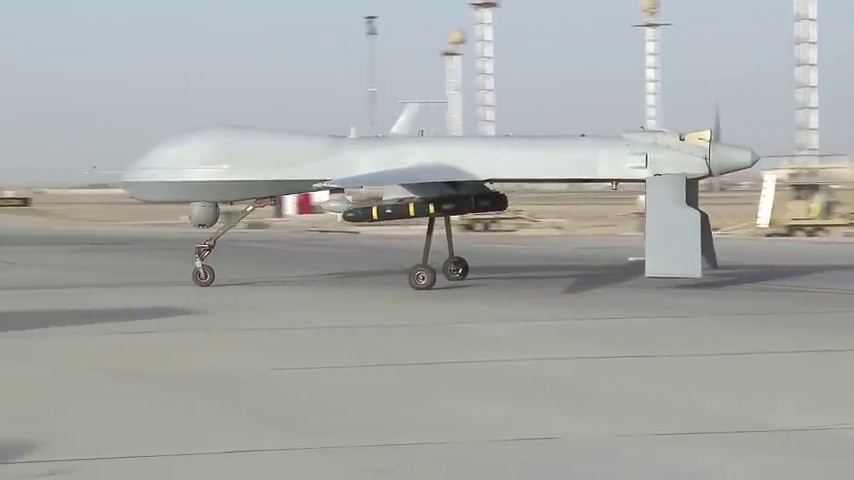military drone: (85, 100, 761, 287)
